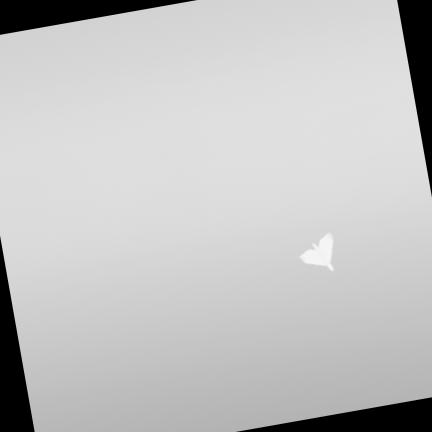Shahed: (300, 233, 334, 270)
